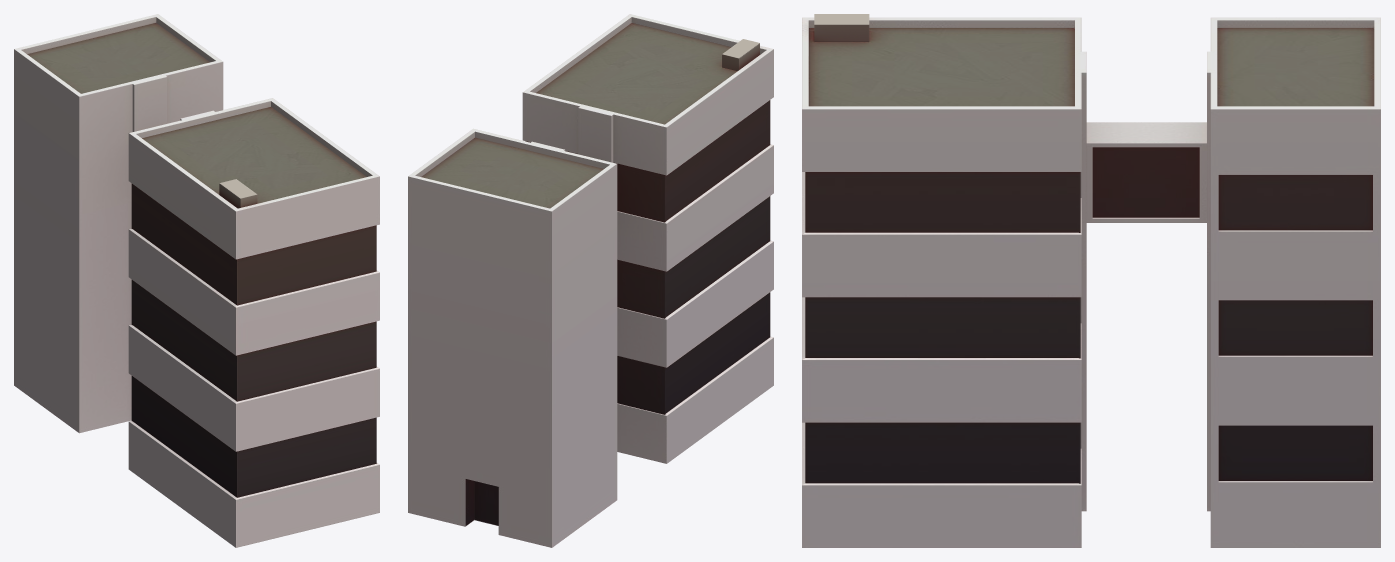
The model's file is edificio-3.glb.
3 renders of one model, left to right at view 1: azimuth 30°, elevation 25°; view 2: azimuth 150°, elevation 25°; view 3: azimuth 270°, elevation 25°, orthographic. The views are drawn at different scales.
Visible parts, largest first — view 1: edificios conectados, Ventanas 2, Techo edificios 2; view 2: edificios conectados, Ventanas 2, Techo edificios 2; view 3: edificios conectados, Ventanas 2, Techo edificios 2.
Boxes of the visible parts, x1=… form: edificios conectados: x1=14, y1=14, x2=379, y2=547; Ventanas 2: x1=131, y1=183, x2=376, y2=497; Techo edificios 2: x1=219, y1=179, x2=257, y2=208; edificios conectados: x1=408, y1=14, x2=773, y2=547; Ventanas 2: x1=525, y1=100, x2=770, y2=414; Techo edificios 2: x1=722, y1=39, x2=759, y2=71; edificios conectados: x1=802, y1=17, x2=1380, y2=547; Ventanas 2: x1=805, y1=147, x2=1372, y2=483; Techo edificios 2: x1=814, y1=14, x2=869, y2=41.
Size of the model in its own units: 3.08 by 7.02 by 8.22.
3 materials, 3 textured.
